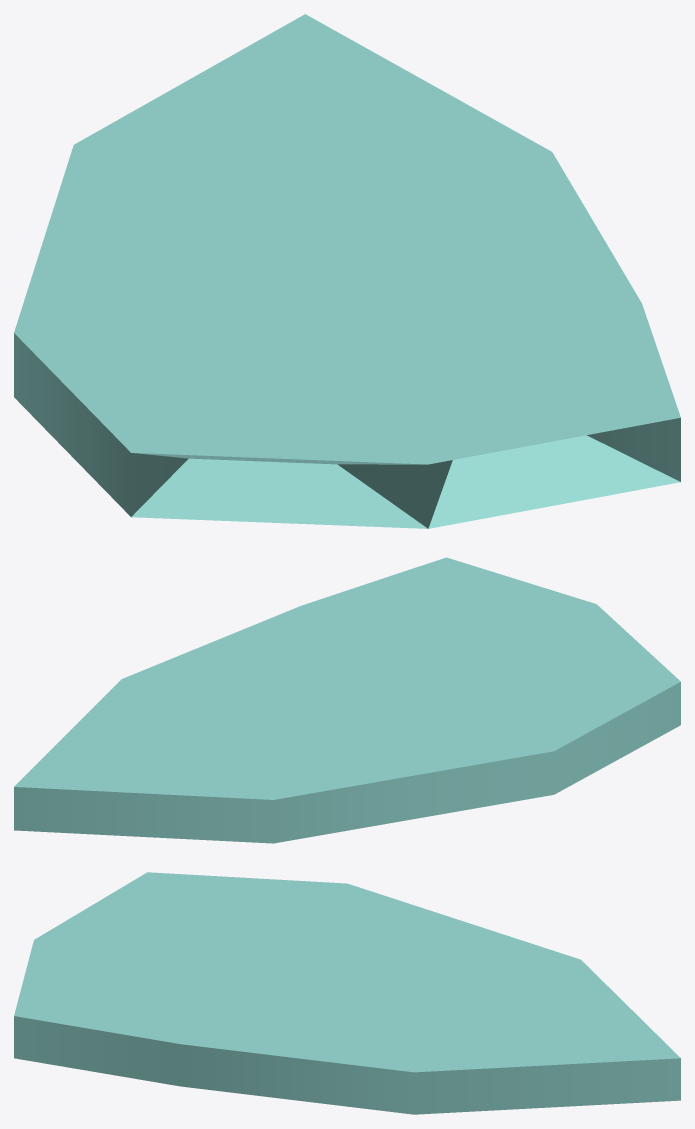
File: serpent_fin.glb
3 views of the same model, one above another, from view 1: azimuth 30°, elevation 25°; view 2: azimuth 150°, elevation 25°; view 3: azimuth 270°, elevation 25° (orthographic). The views are drawn at different scales.
Visible parts, largest first — view 1: Fin; view 2: Fin; view 3: Fin.
Boxes of the visible parts, left/top/right/bottom form: Fin: left=14, top=14, right=680, bottom=528; Fin: left=14, top=557, right=680, bottom=843; Fin: left=14, top=872, right=680, bottom=1114.
Size of the model in its own units: 0.355 by 0.035 by 0.5.
